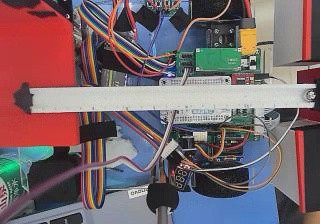ironball: (304, 89, 316, 100)
